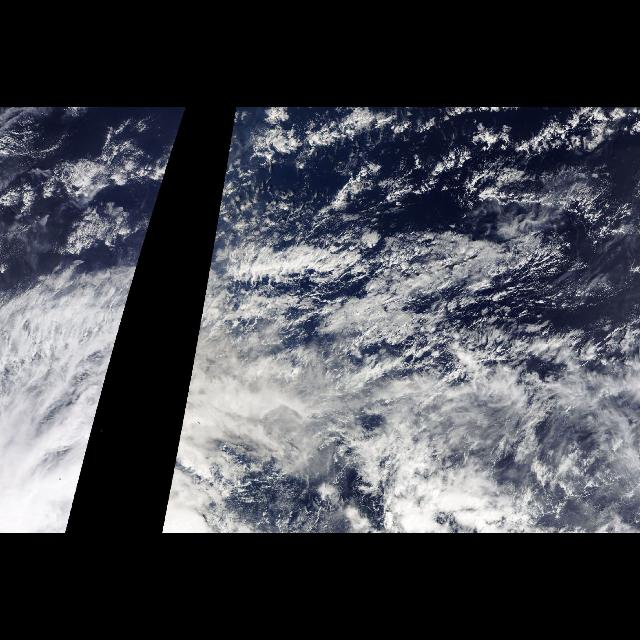Gravel: (320, 110, 640, 228)
